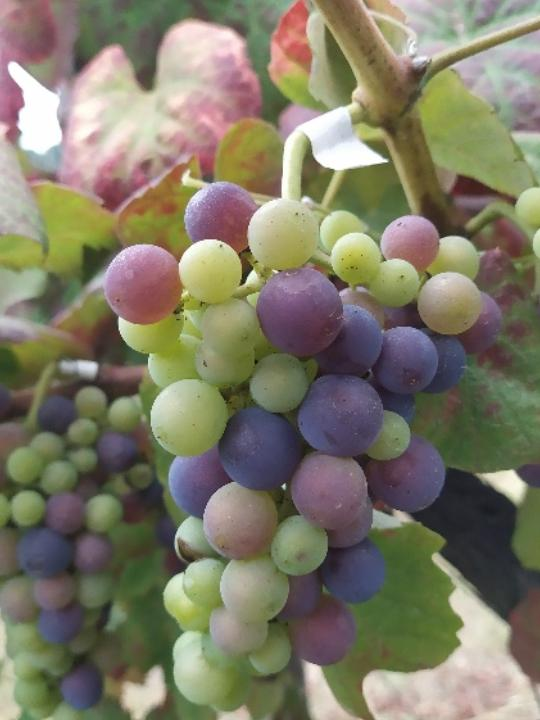grape: (98, 177, 507, 717)
